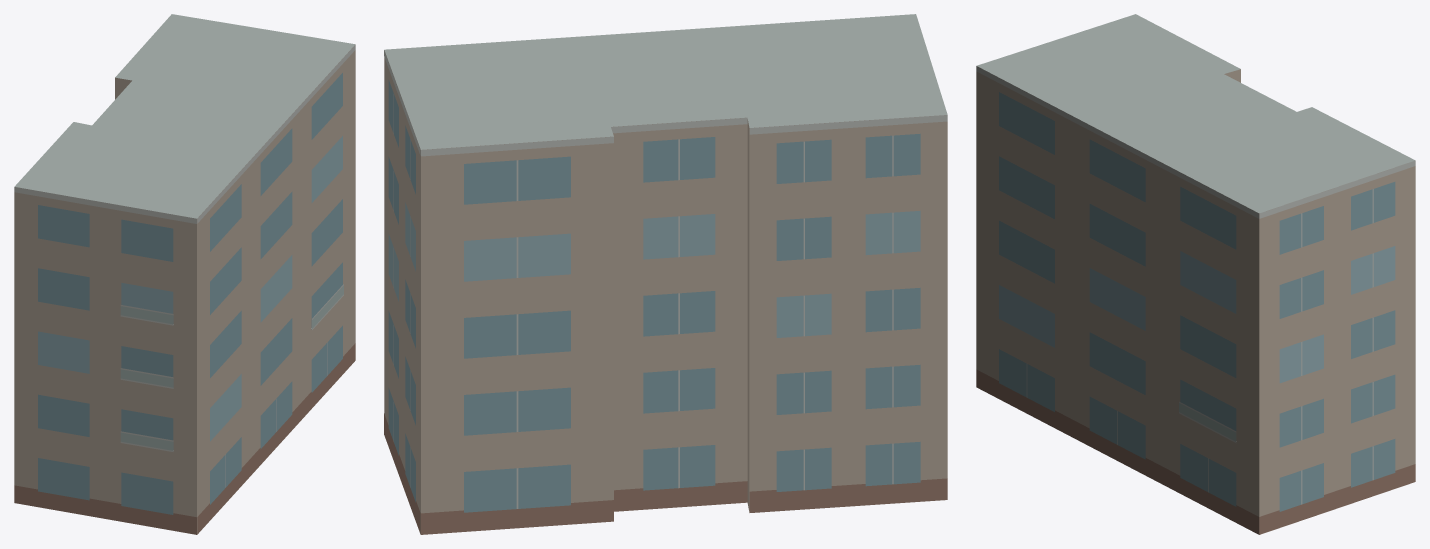
File: survey-upis-32747681.glb
3 views of the same model, side by side, from view 1: azimuth 30°, elevation 25°; view 2: azimuth 150°, elevation 25°; view 3: azimuth 270°, elevation 25° (orthographic). The views are drawn at different scales.
Visible parts, largest first — view 1: survey-upis-32747681.tmp; view 2: survey-upis-32747681.tmp; view 3: survey-upis-32747681.tmp.
Boxes of the visible parts, x1,y1,x2,y2 form: survey-upis-32747681.tmp: (14,14,355,534); survey-upis-32747681.tmp: (384,14,947,534); survey-upis-32747681.tmp: (976,14,1415,534).
Size of the model in its own units: 18.9 by 14.2 by 17.59.
